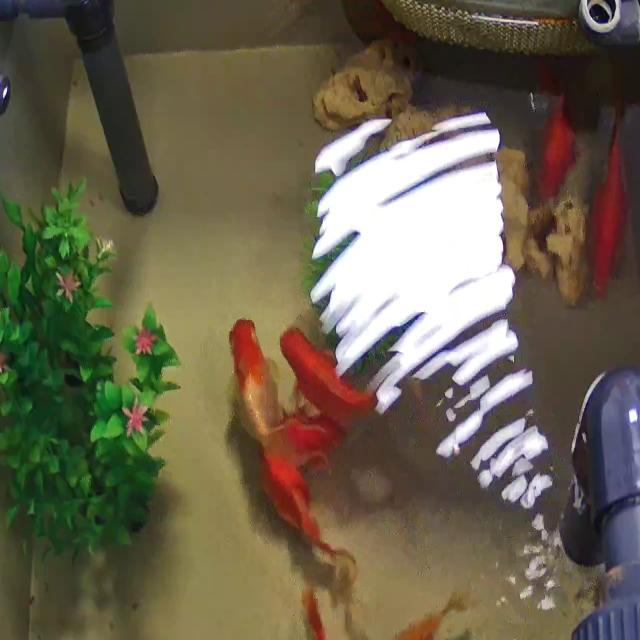fish: (232, 318, 349, 572), (279, 322, 367, 432), (589, 83, 631, 295), (228, 316, 294, 445), (535, 54, 577, 204), (361, 582, 461, 640), (289, 587, 341, 640), (306, 0, 385, 13)
